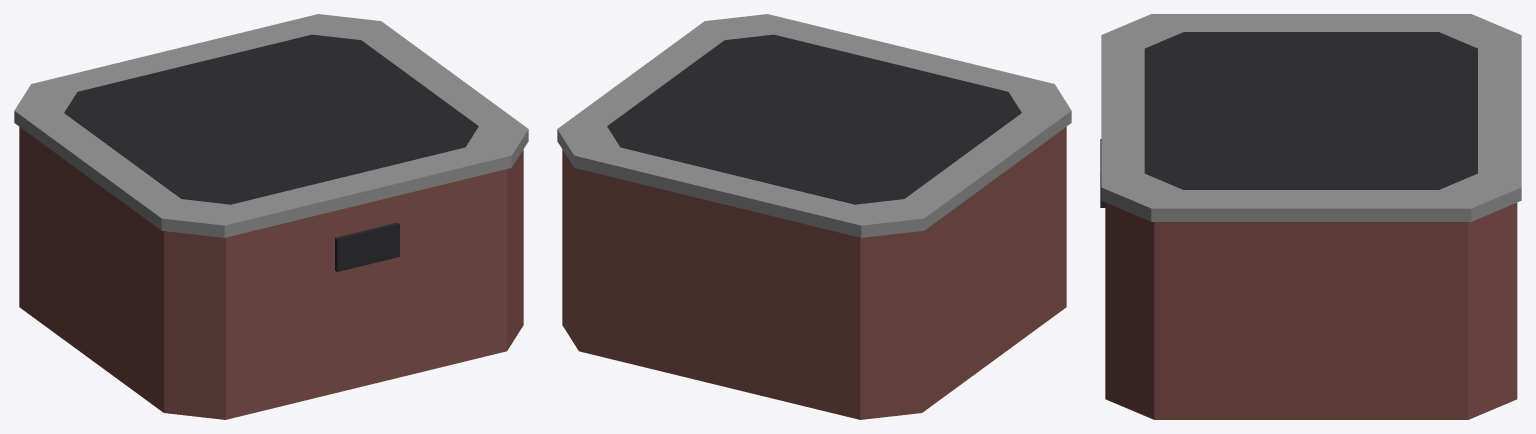
Rendered from vge_spacer_box_component_empty.obj.
The picture shows the model from 3 angles, left to right: view 1: azimuth 30°, elevation 25°; view 2: azimuth 150°, elevation 25°; view 3: azimuth 270°, elevation 25°; orthographic projection. The views are drawn at different scales.
Parts seen in each view (by area): view 1: vge_spacer_box_component_empty_0, vge_spacer_box_component_empty_2, vge_spacer_box_component_empty_1, vge_spacer_box_component_empty_3; view 2: vge_spacer_box_component_empty_0, vge_spacer_box_component_empty_2, vge_spacer_box_component_empty_1; view 3: vge_spacer_box_component_empty_0, vge_spacer_box_component_empty_2, vge_spacer_box_component_empty_1.
Part boxes in pixels (<box>): vge_spacer_box_component_empty_0: <box>19,127,523,419</box>; vge_spacer_box_component_empty_2: <box>64,34,478,204</box>; vge_spacer_box_component_empty_1: <box>14,14,528,237</box>; vge_spacer_box_component_empty_3: <box>335,222,399,271</box>; vge_spacer_box_component_empty_0: <box>562,127,1066,419</box>; vge_spacer_box_component_empty_2: <box>607,34,1021,204</box>; vge_spacer_box_component_empty_1: <box>557,14,1071,237</box>; vge_spacer_box_component_empty_0: <box>1105,202,1517,419</box>; vge_spacer_box_component_empty_2: <box>1144,32,1477,189</box>; vge_spacer_box_component_empty_1: <box>1101,14,1521,221</box>.
Size of the model in its own units: 0.9384 by 0.481 by 0.8584.
